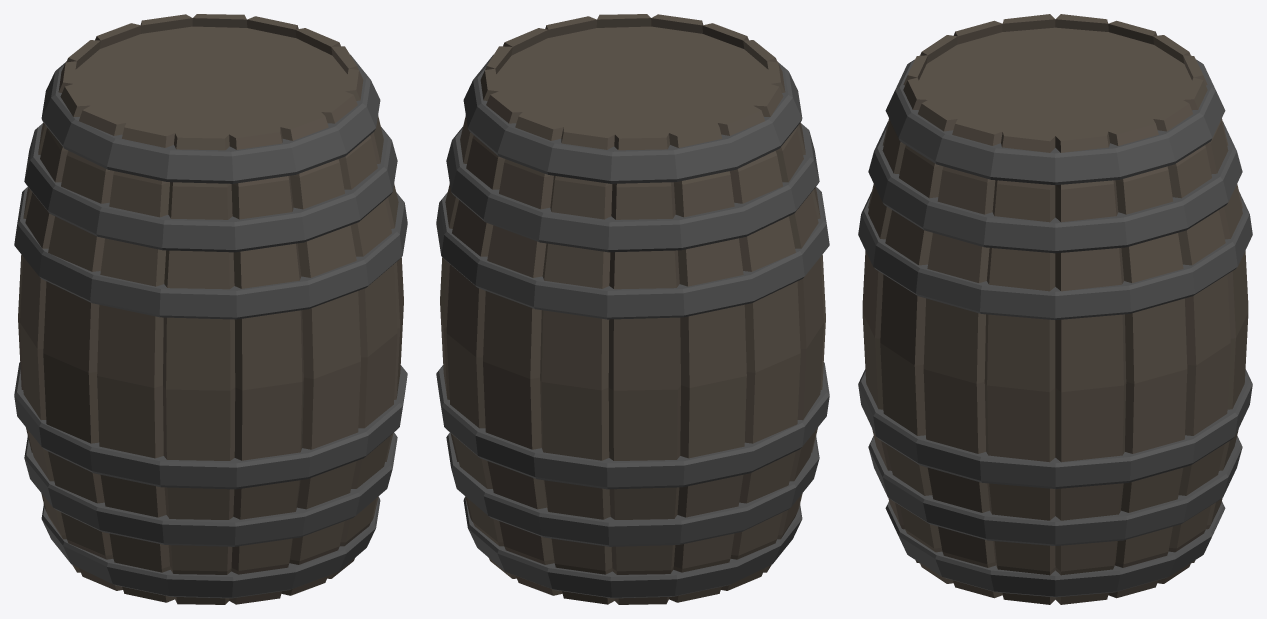
File: Prop_Barrel_01.fbx
The picture shows the model from 3 angles, left to right: view 1: azimuth 30°, elevation 25°; view 2: azimuth 150°, elevation 25°; view 3: azimuth 270°, elevation 25°; orthographic projection.
Visible parts, largest first — view 1: Prop_Barrel_01_LOD0; view 2: Prop_Barrel_01_LOD0; view 3: Prop_Barrel_01_LOD0.
Boxes of the visible parts, box(x1,y1,x2,y2) form: Prop_Barrel_01_LOD0: box(14, 14, 407, 604); Prop_Barrel_01_LOD0: box(436, 14, 829, 604); Prop_Barrel_01_LOD0: box(858, 14, 1252, 604).
Size of what is drawn, in the model's own units: 68.22 by 88.44 by 68.22.
